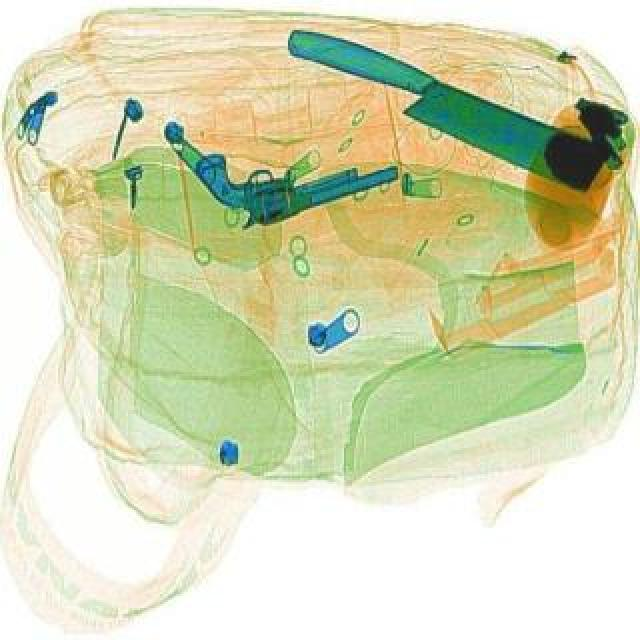gun: (226, 134, 404, 238), (192, 122, 360, 226)
knife: (274, 26, 618, 200)
